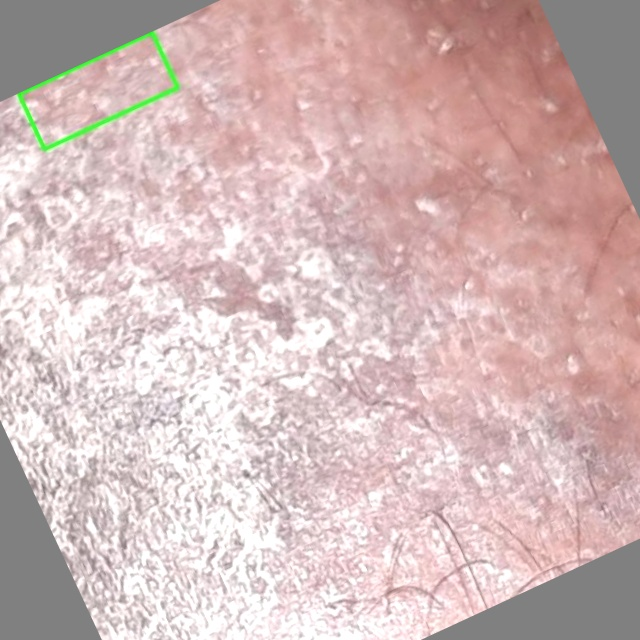Tinea Corporis: (18, 32, 177, 149)
